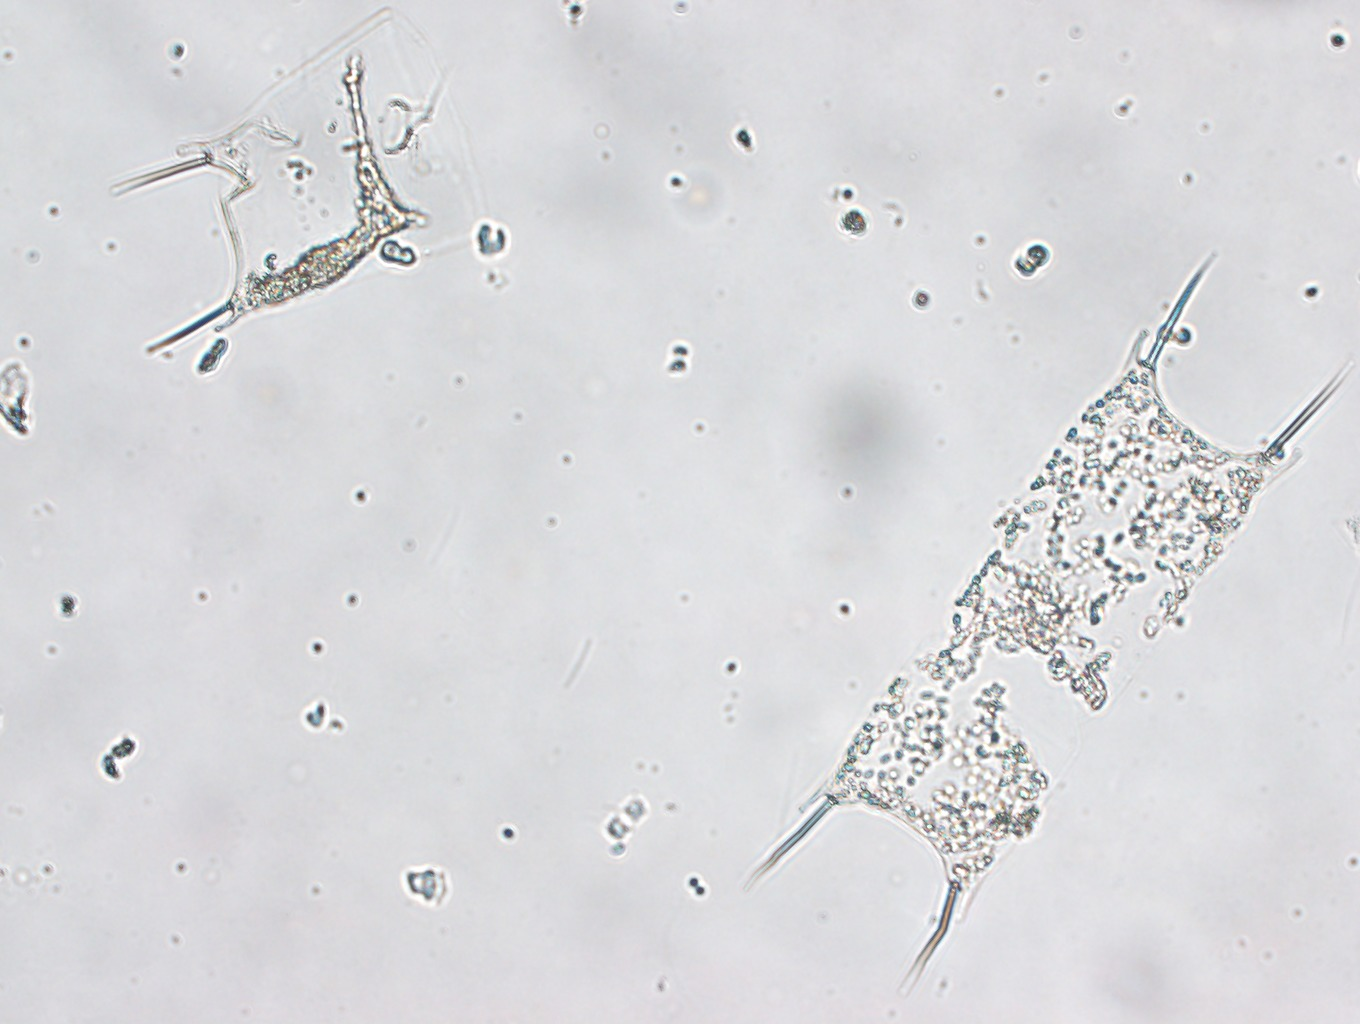biddulphia: (738, 243, 1360, 995), (112, 10, 475, 366)
